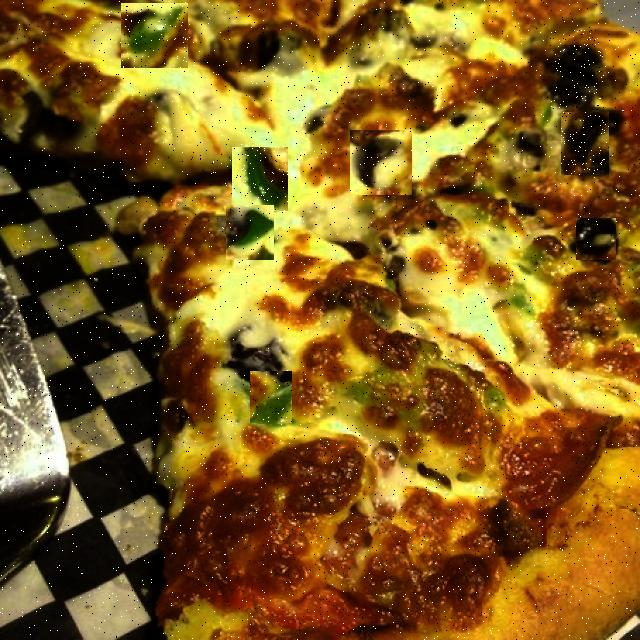Green Pepper: (121, 3, 188, 68), (232, 147, 288, 211), (226, 205, 274, 260), (250, 371, 292, 424)
Olives: (551, 30, 604, 108), (350, 130, 412, 195), (220, 322, 285, 373), (13, 91, 73, 146), (561, 112, 609, 175), (576, 218, 616, 260)
